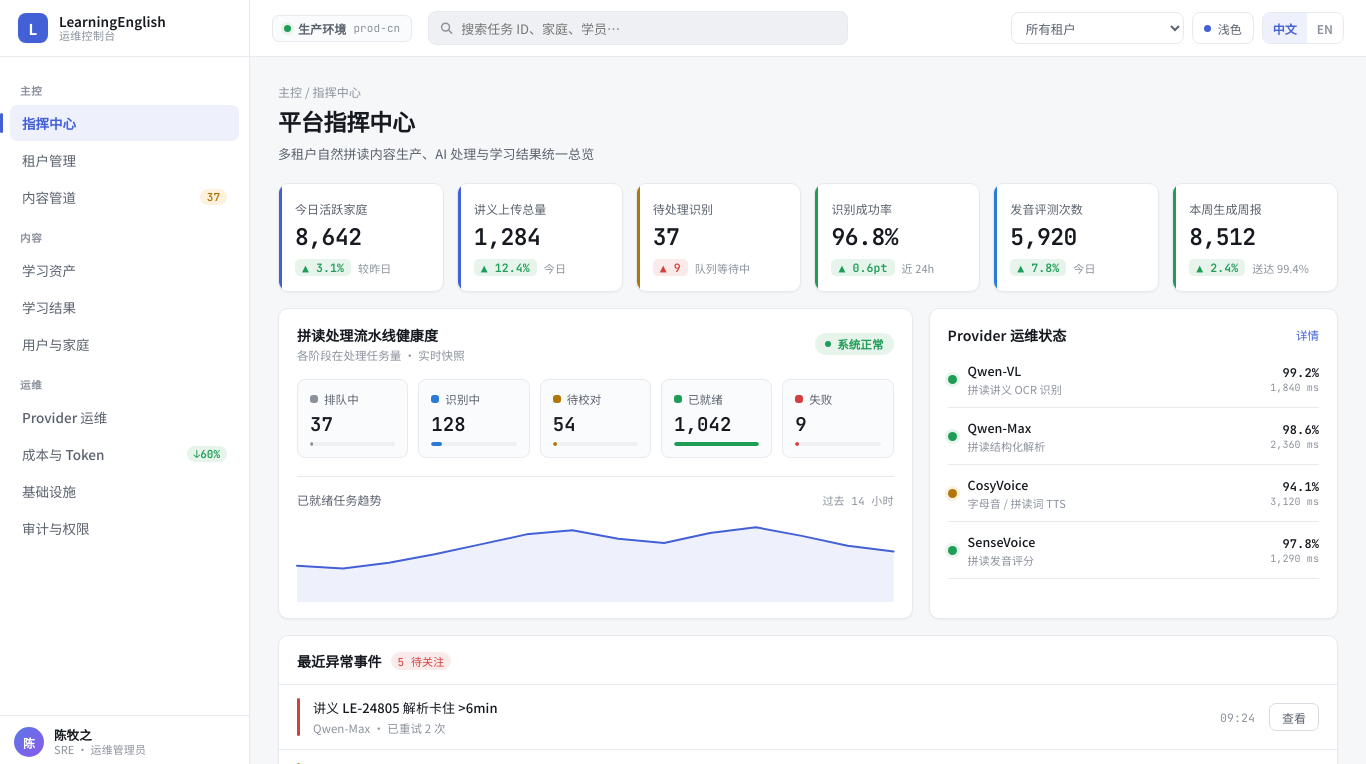
Test: interactions › opens the tenant add form
The width and height of the screenshot is (1366, 764).
Click the button "租户管理" at (124, 160), box [10,142,239,178]
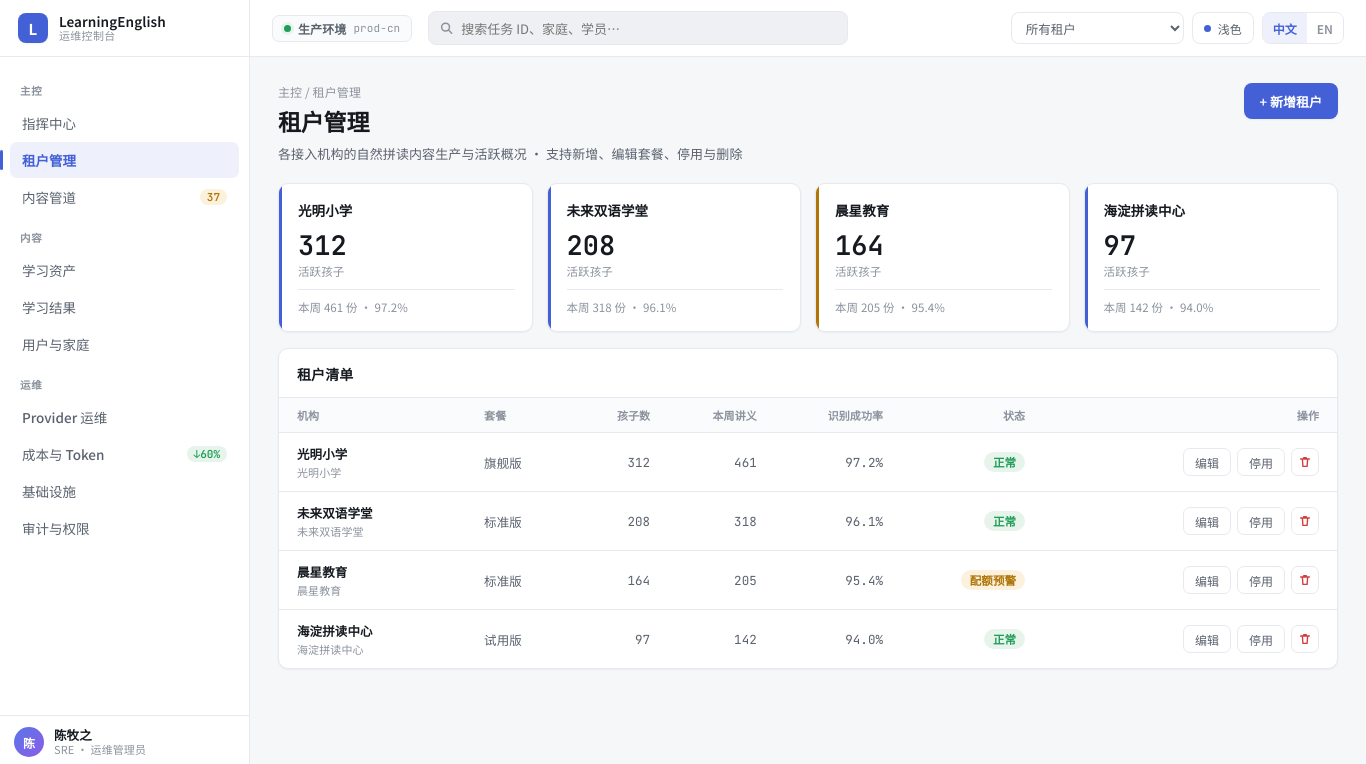
Click the button "+ 新增租户" at (1291, 101), box [1244,83,1338,119]
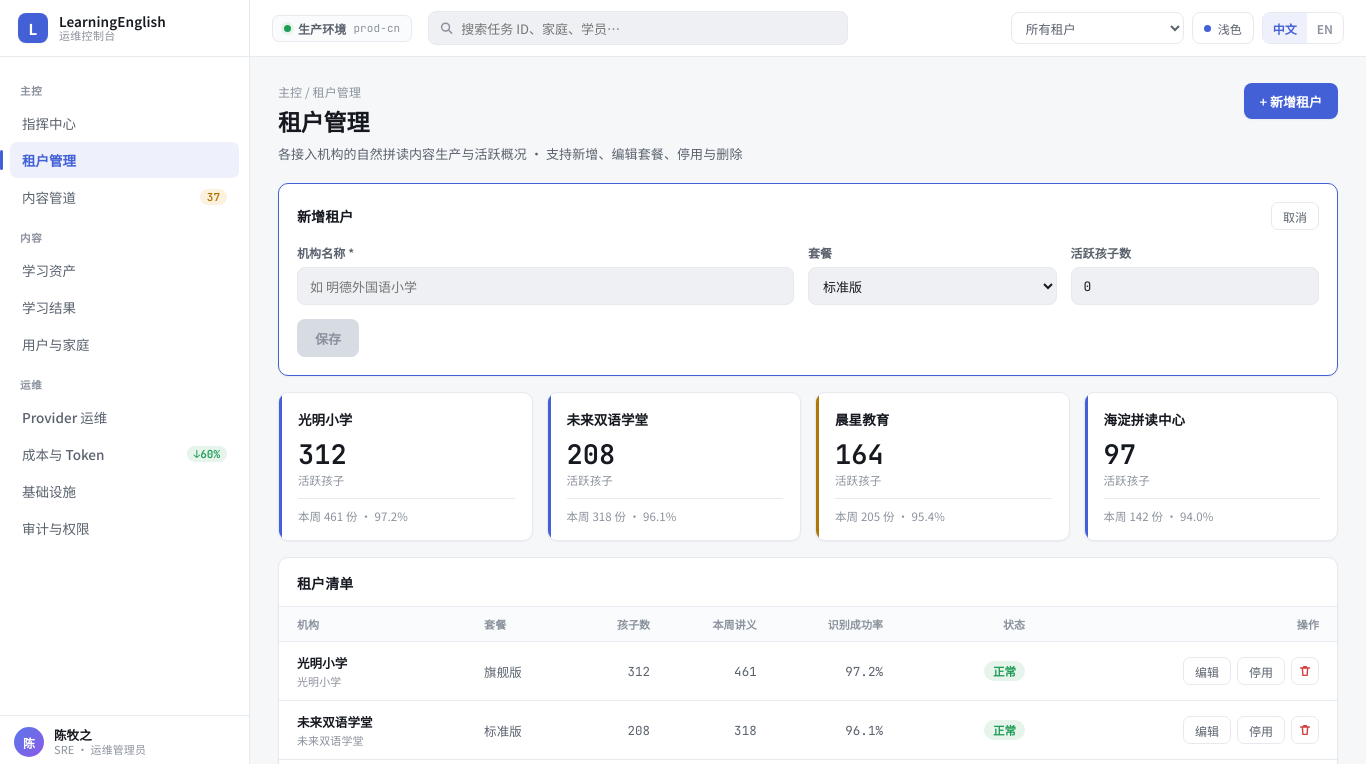
Check: the field labelled "机构名称 *" is shown, box [297,267,794,305]
